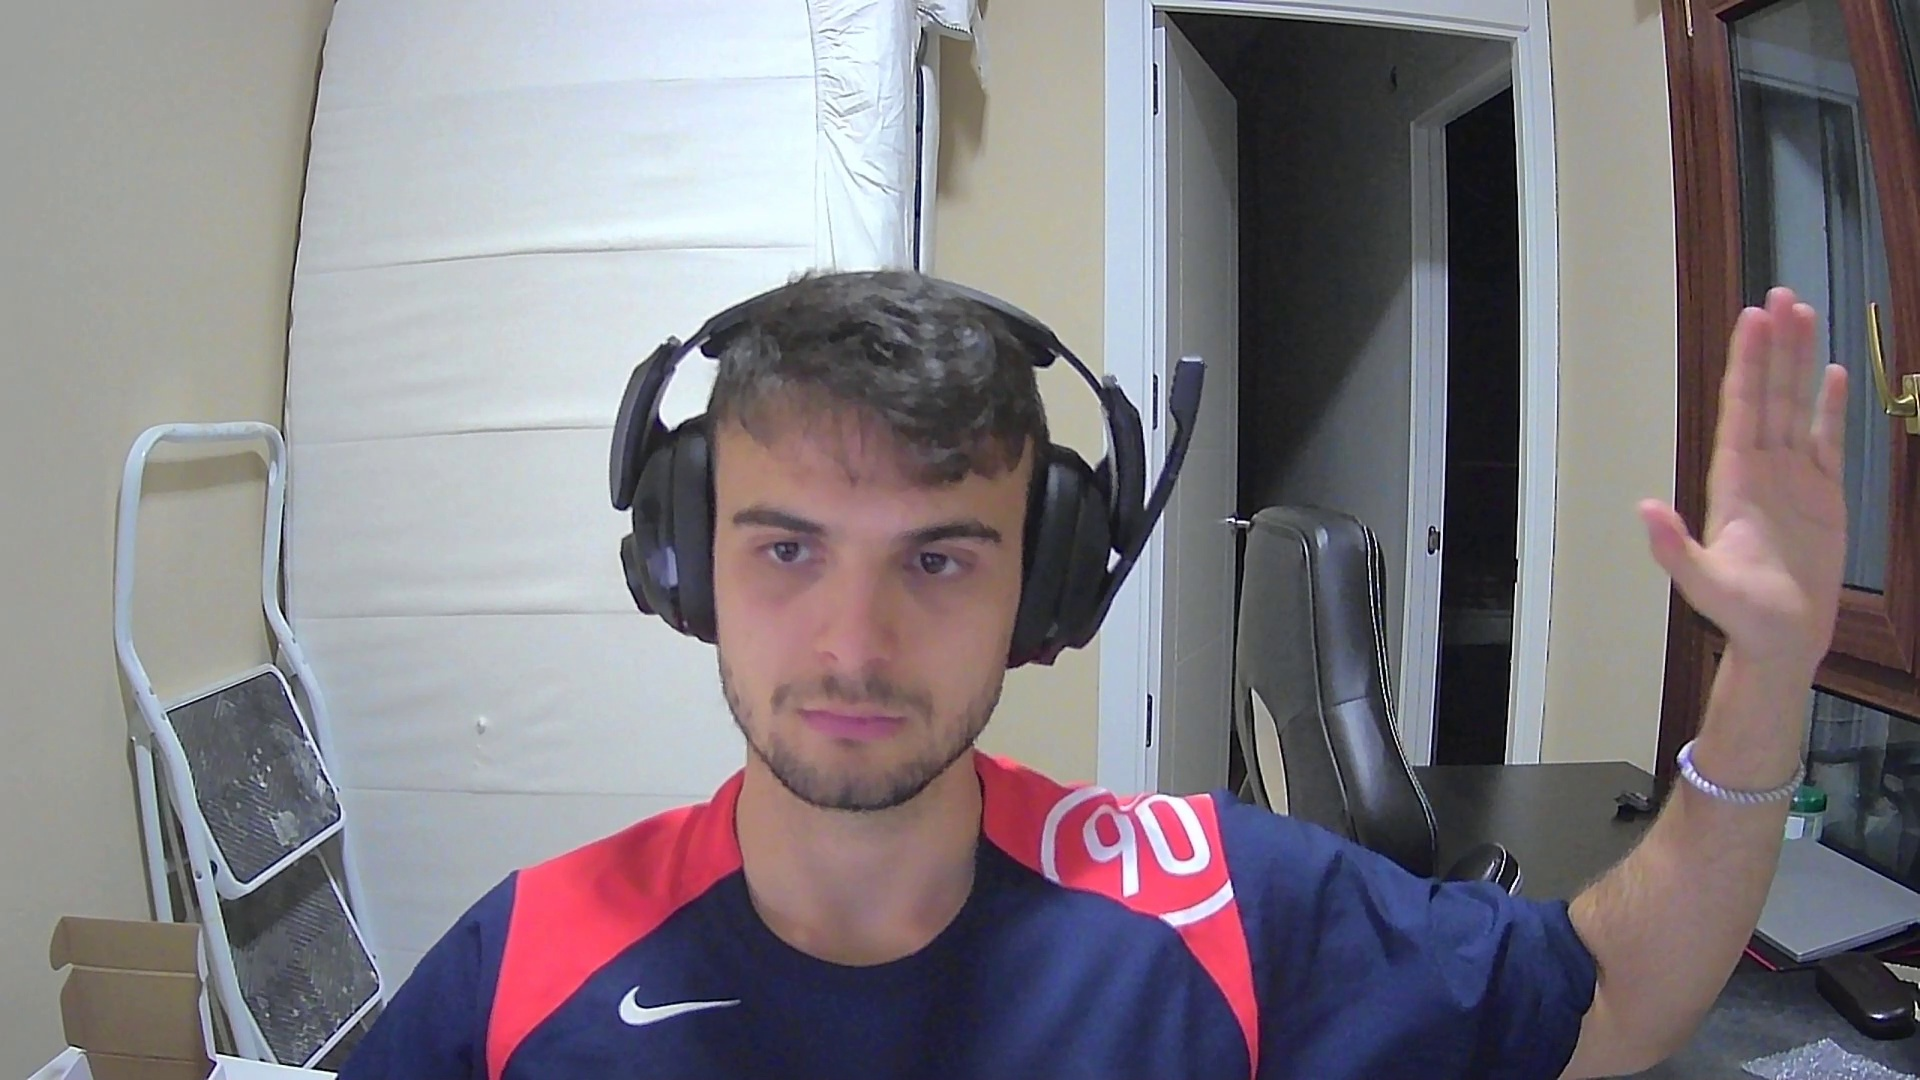Palm: (1634, 282, 1855, 651)
